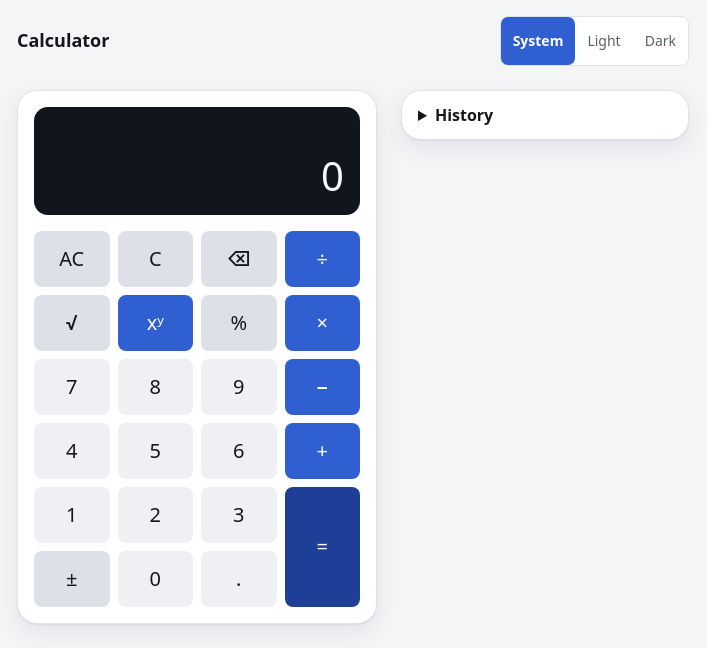
Scenario: App structure › mounts exactly one alert container, empty when idle, and fills it on a failure
The width and height of the screenshot is (707, 648).
Click the button "1" at point(72, 515), box [34,487,110,543]
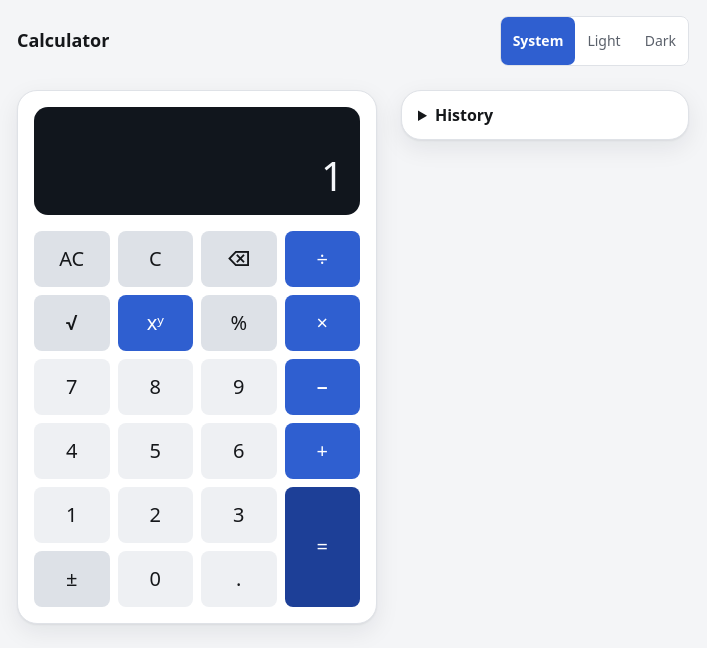
Click the button named "divide" at point(322, 259), box [284,231,360,287]
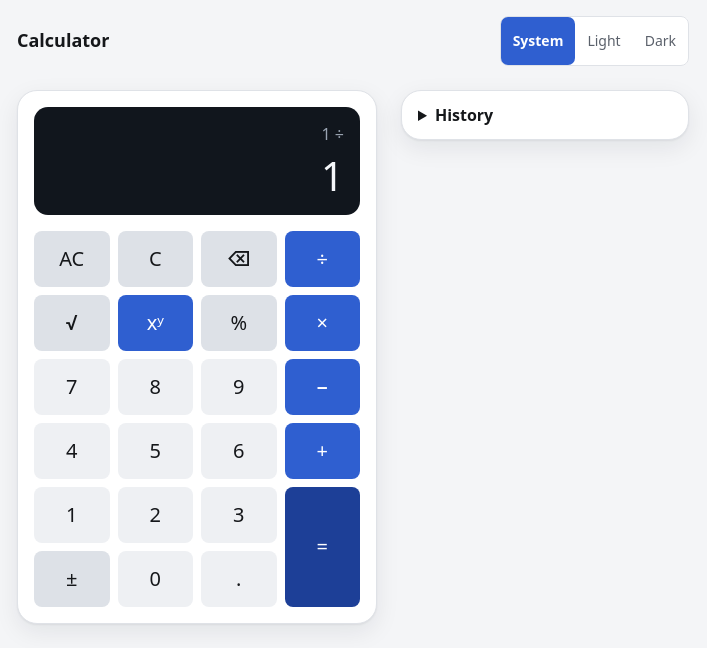
Click the button "0" at point(155, 579), box [118,551,193,607]
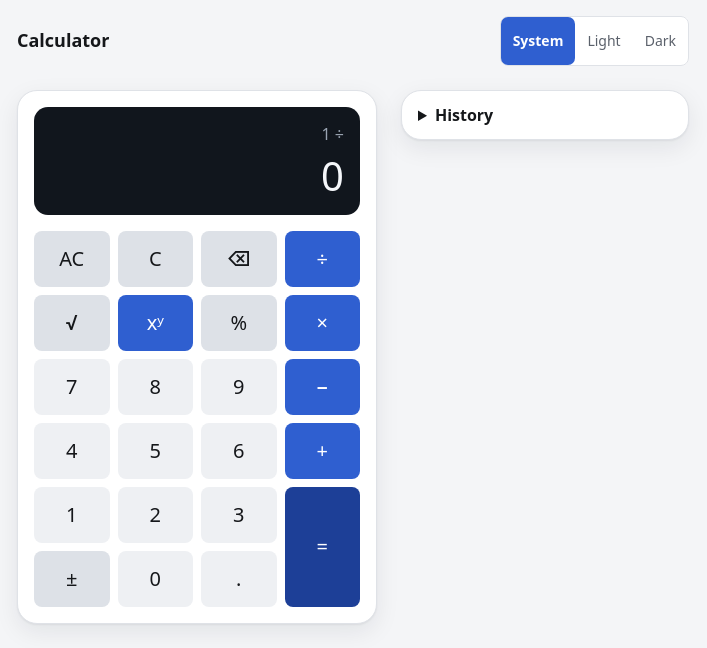
Click the button named "equals" at point(322, 547), box [284,487,360,607]
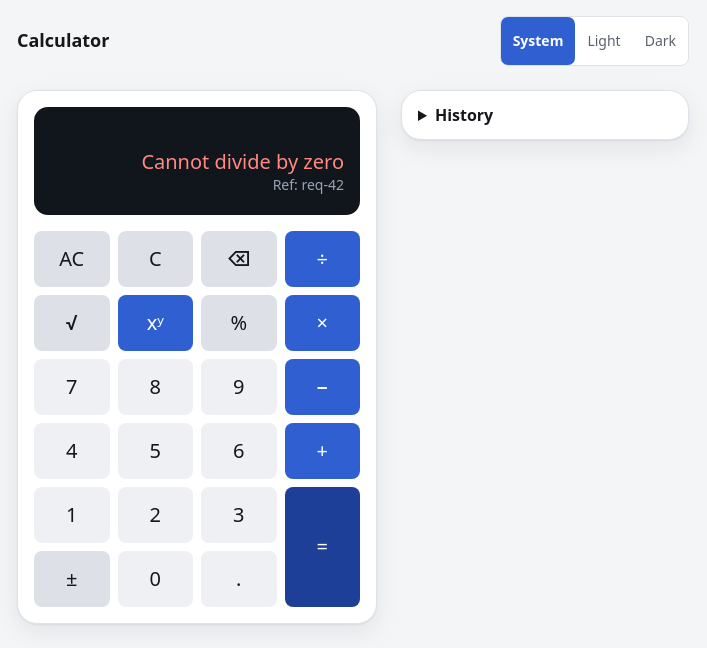
Expected: the number of messages is 1, [141,148,344,194]
Expected: the message shows "Cannot divide by zero", [141,148,344,175]
Expected: the message shows "Ref: req-42", [273,175,344,194]
